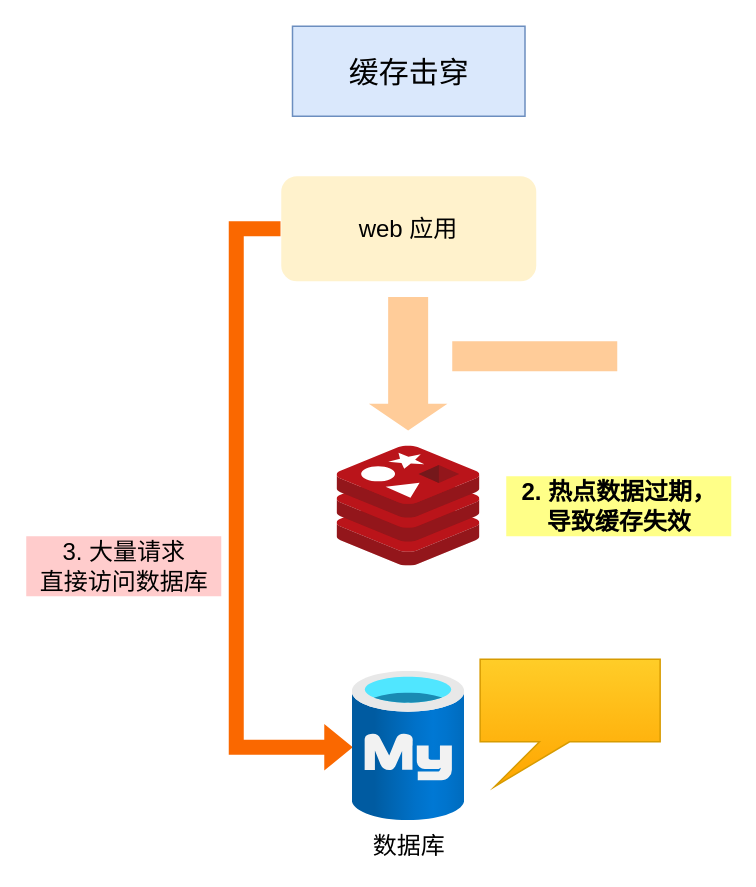
This 756x887 diagram has some shape labels left out. Here are the shapes that lost their labels. From the top down, the centre of each, then its label:
point (534, 355): 1. 大量读请求
point (408, 506): 缓存
point (569, 722): 我快扛不住了...
